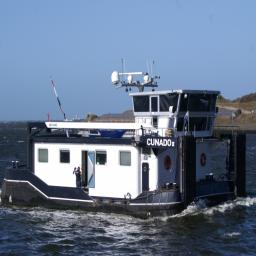tugboat: (5, 70, 250, 225)
